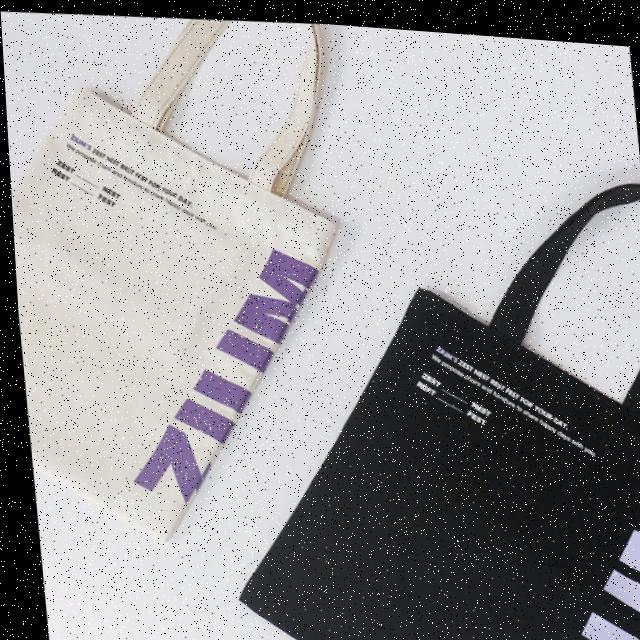ecobag: (0, 0, 403, 549)
